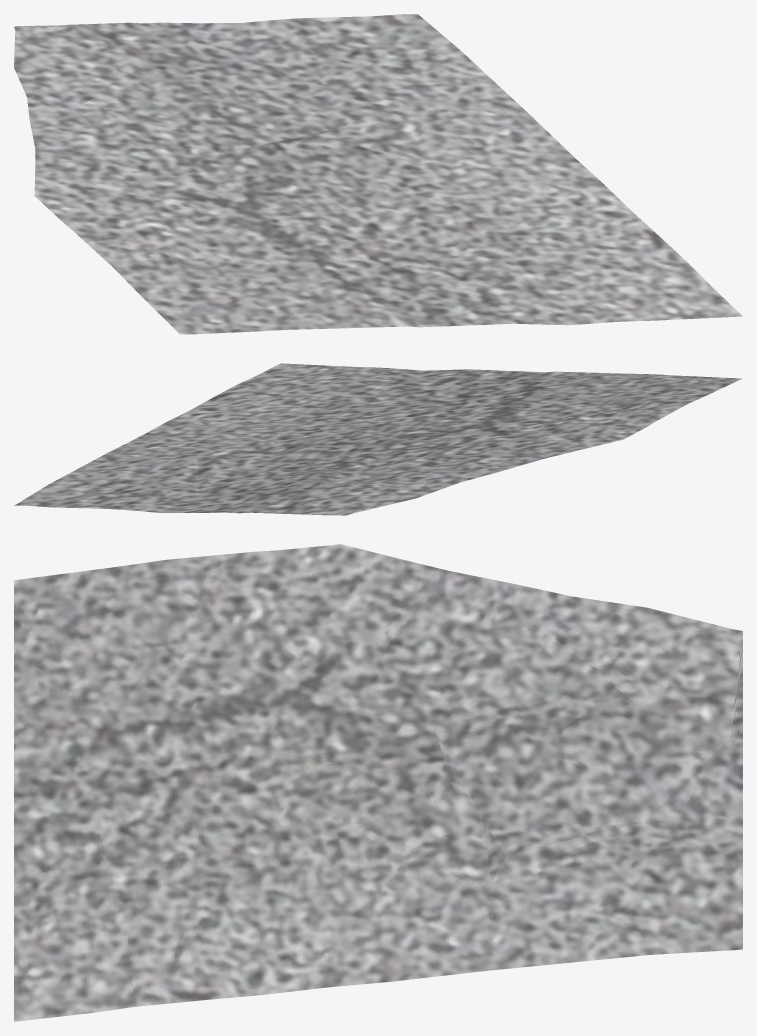
The picture shows the model from 3 angles, top to bottom: view 1: azimuth 30°, elevation 25°; view 2: azimuth 150°, elevation 25°; view 3: azimuth 270°, elevation 25°; orthographic projection. The views are drawn at different scales.
Bounding box in the file's own units: 0.8373 × 0.2148 × 0.8374.
2 materials, 2 textured.
